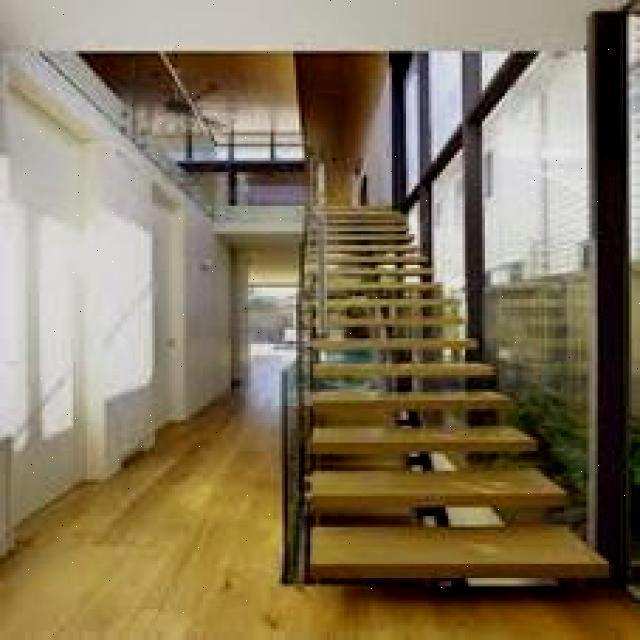stair: (299, 352, 620, 592)
